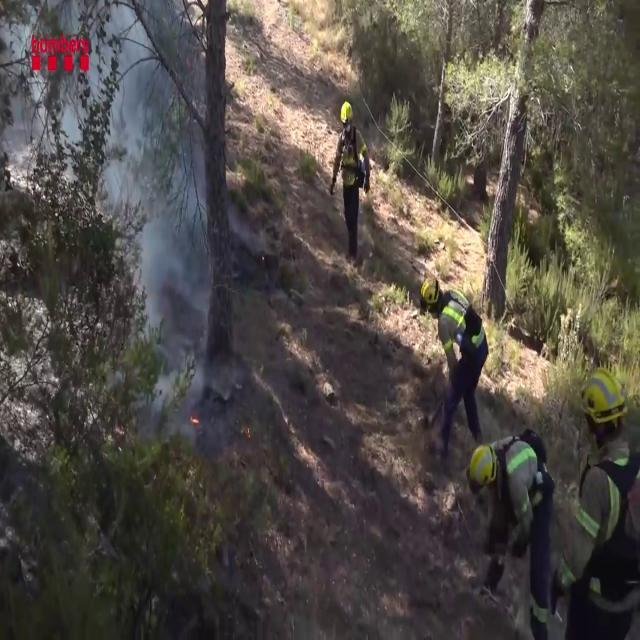Smoke: (101, 22, 222, 404)
